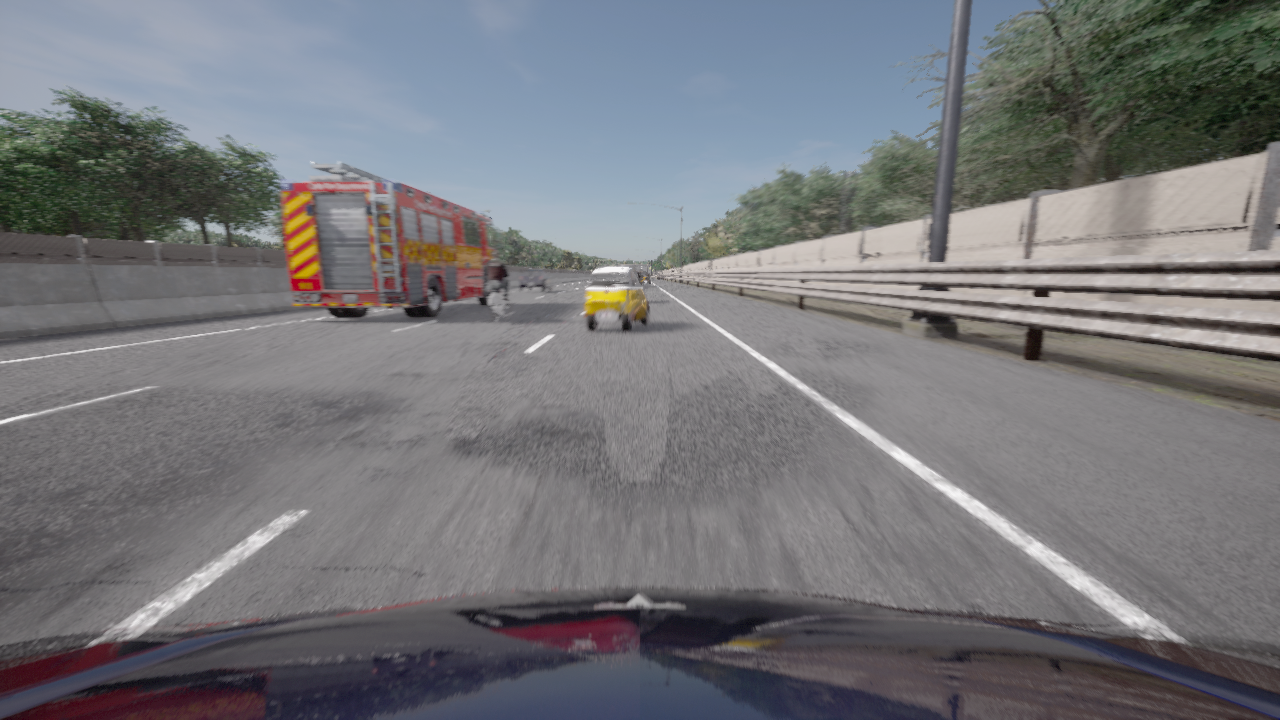cyclist: (0, 588, 1279, 719), (281, 162, 502, 317), (585, 266, 649, 331), (519, 269, 552, 292), (489, 290, 509, 323), (637, 270, 649, 284), (641, 276, 643, 277)
